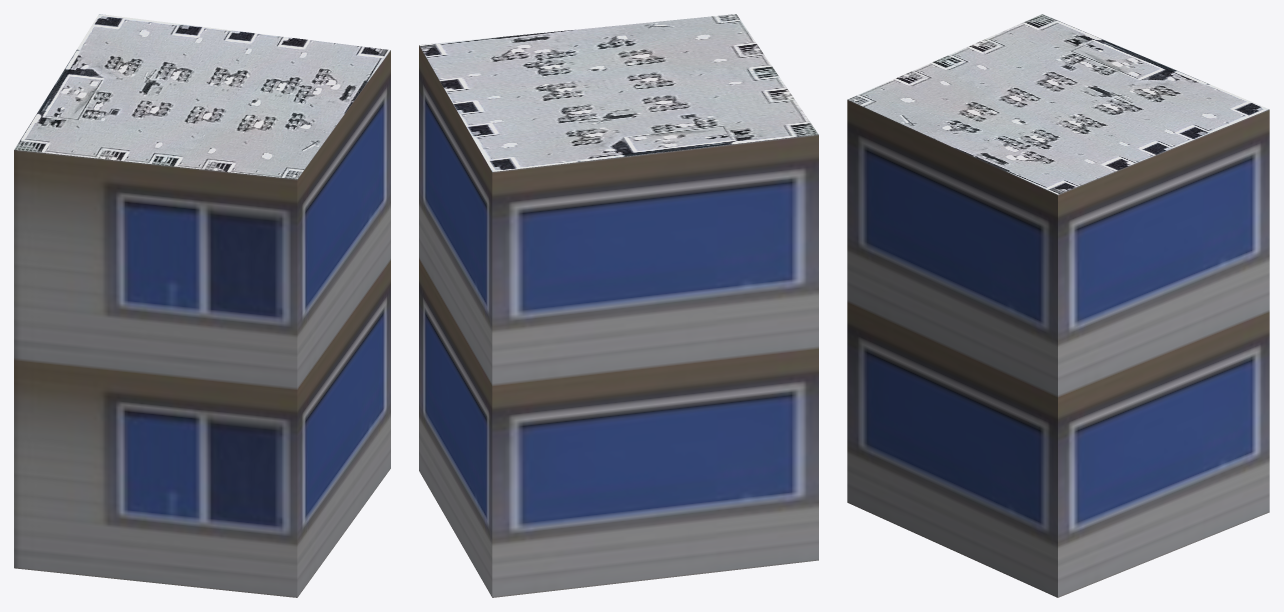
Rendered from ResTex__4538.fbx.
3 renders of one model, left to right at view 1: azimuth 30°, elevation 25°; view 2: azimuth 150°, elevation 25°; view 3: azimuth 270°, elevation 25°, orthographic. The views are drawn at different scales.
Parts seen in each view (by area): view 1: CityEngineMaterial_23_m, CityEngineMaterial_2_m; view 2: CityEngineMaterial_23_m, CityEngineMaterial_2_m; view 3: CityEngineMaterial_23_m, CityEngineMaterial_2_m.
Part boxes in pixels (box(x1,y1,x2,y2)): CityEngineMaterial_23_m: box(14, 50, 390, 597); CityEngineMaterial_2_m: box(14, 14, 390, 179); CityEngineMaterial_23_m: box(419, 45, 818, 597); CityEngineMaterial_2_m: box(419, 14, 818, 171); CityEngineMaterial_23_m: box(847, 99, 1269, 597); CityEngineMaterial_2_m: box(848, 14, 1268, 194).
Bounding box in the file's own units: 5.77 × 6 × 5.69.
Materials: 2 (2 with a texture image).
